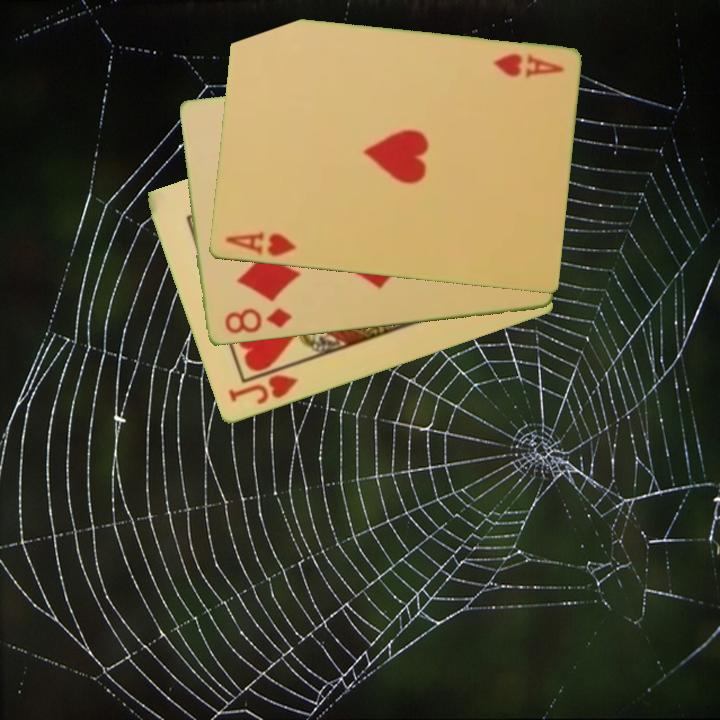8d: (221, 305, 295, 338)
Ah: (221, 229, 299, 260), (489, 50, 567, 81)
Jh: (224, 361, 302, 408)
